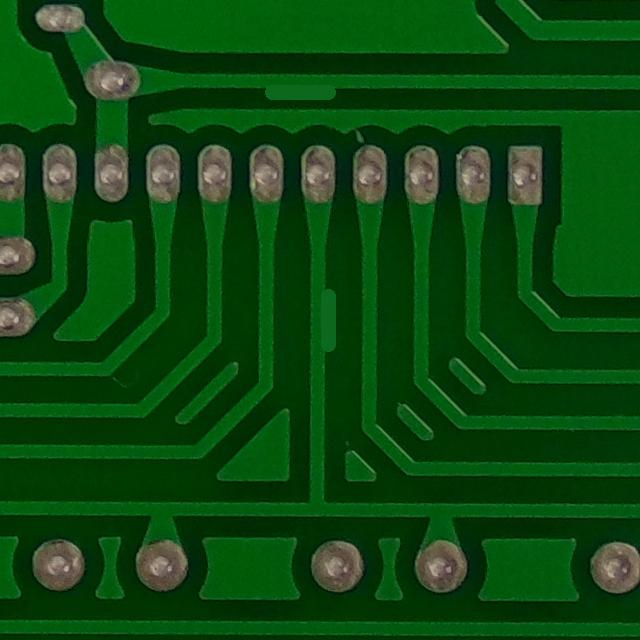spur: (296, 274, 345, 366)
